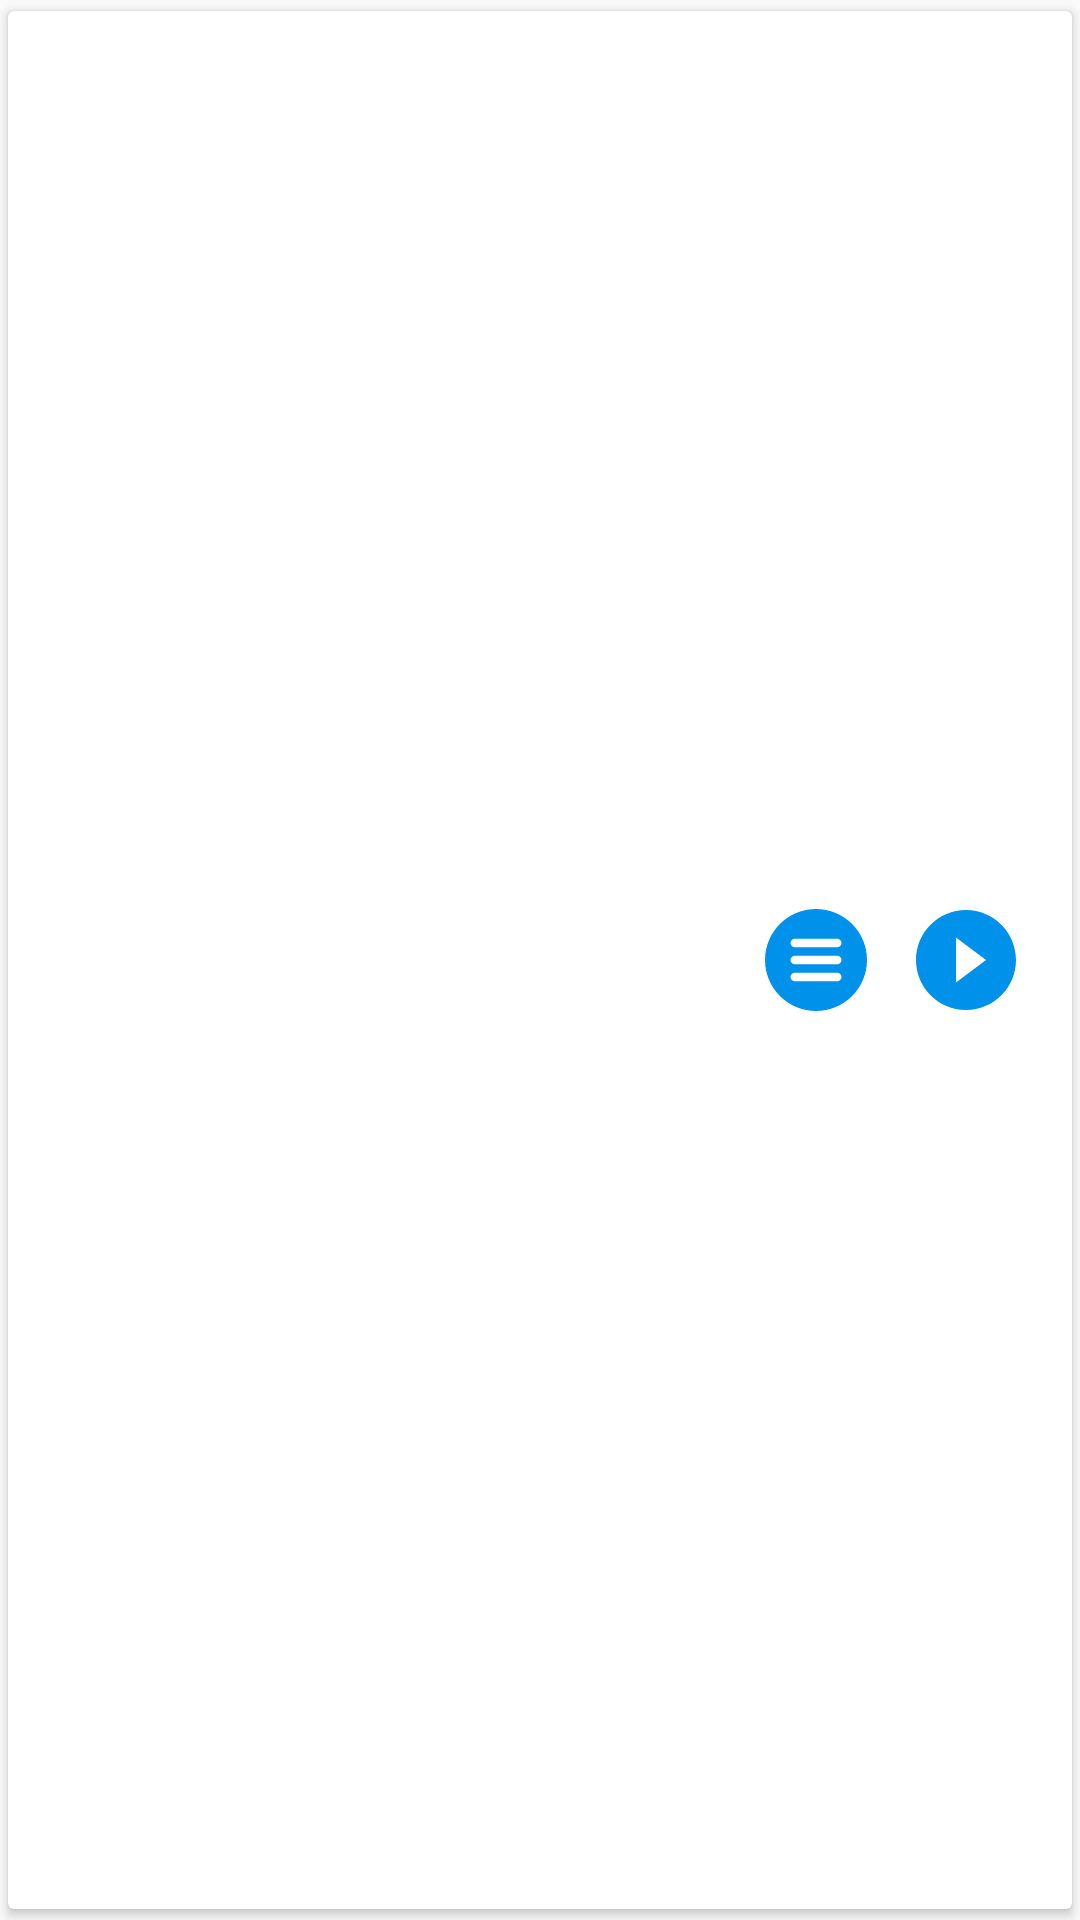

Icon click points for this 1080×1920 phone screenshot, format (x,y):
menu: (816,960)
play: (966,960)
